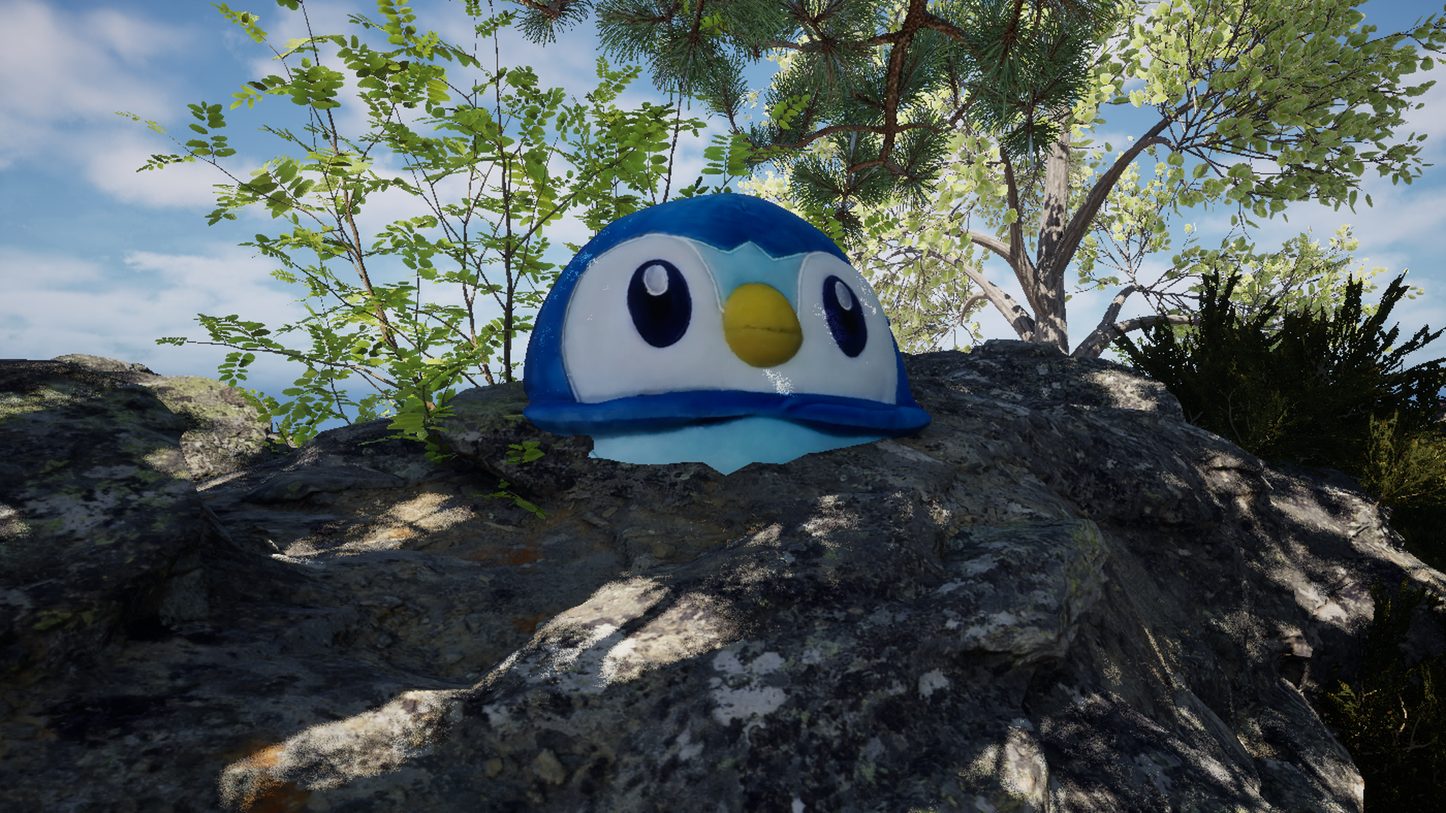Piplup: (302, 0, 1077, 813)
